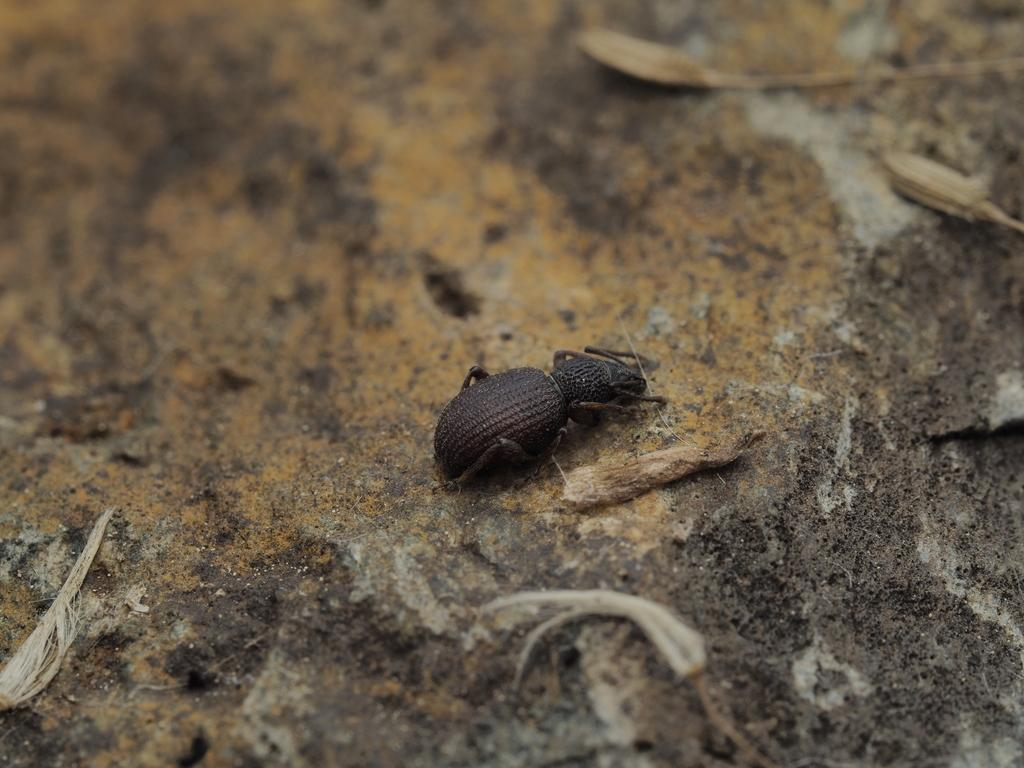weevils: (376, 307, 704, 530)
